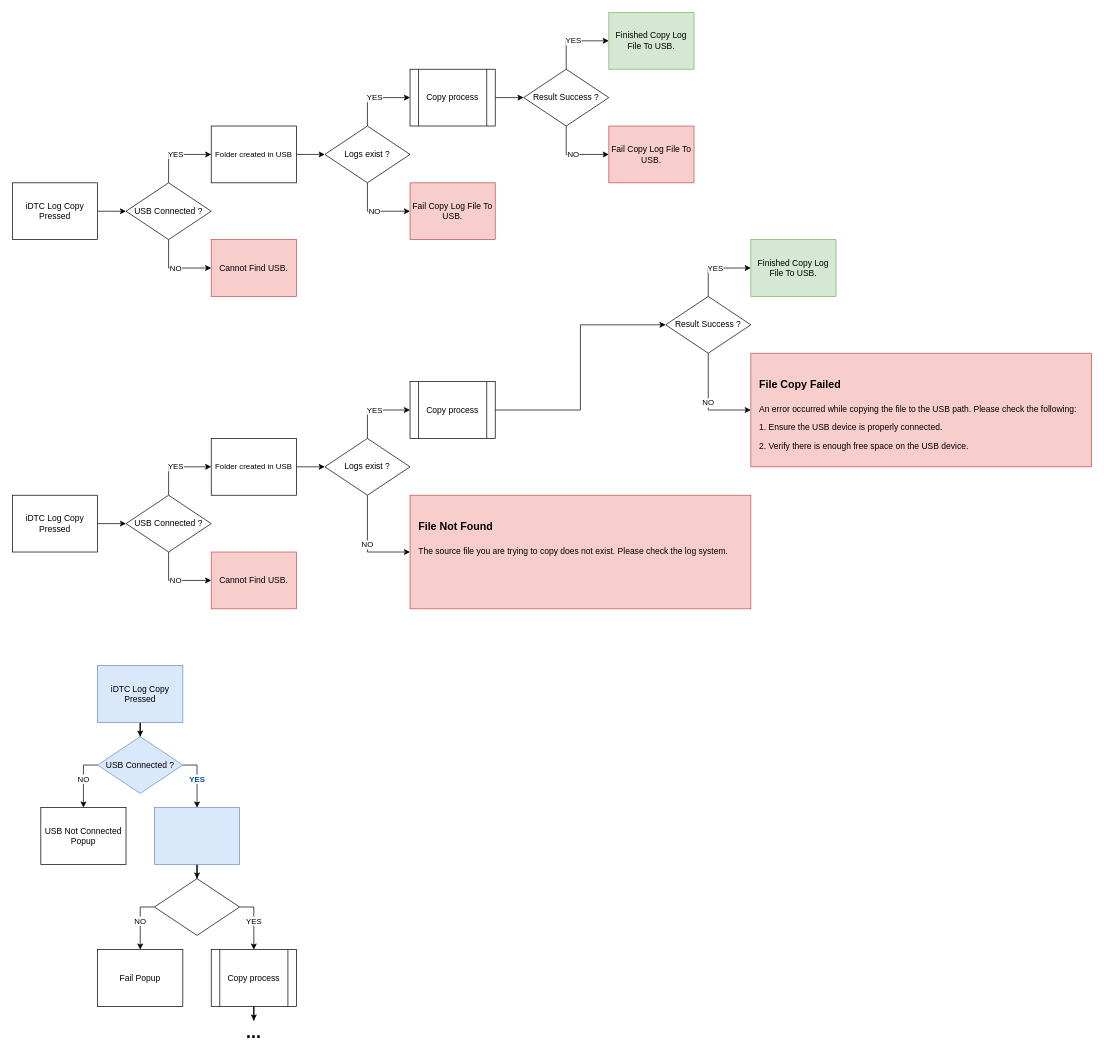
Image size: 1104x1054. Some labels were removed from this diagram. Here are the shapes that lost their labels. From the top down, the box of each, then its label:
(154, 807, 240, 864): Folder created in USB ${Timestamp} + "_TMS_LOG"
(154, 878, 240, 935): iDTC Logs exist ?
